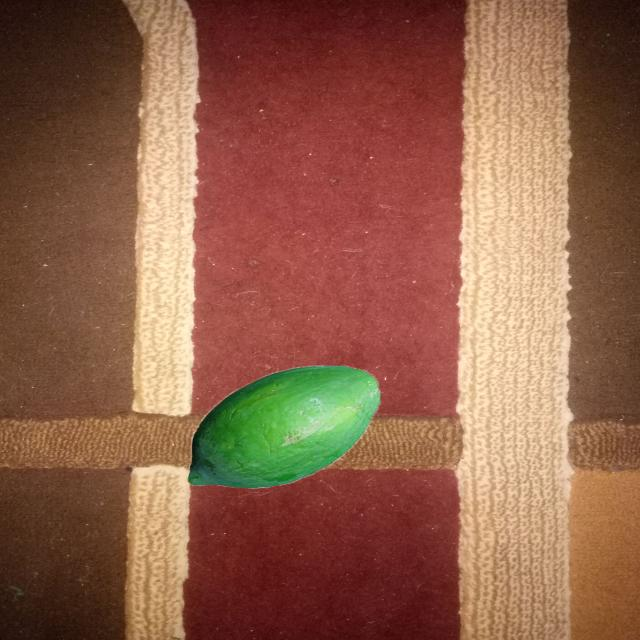Pepaya unrippen: (172, 364, 383, 494)
